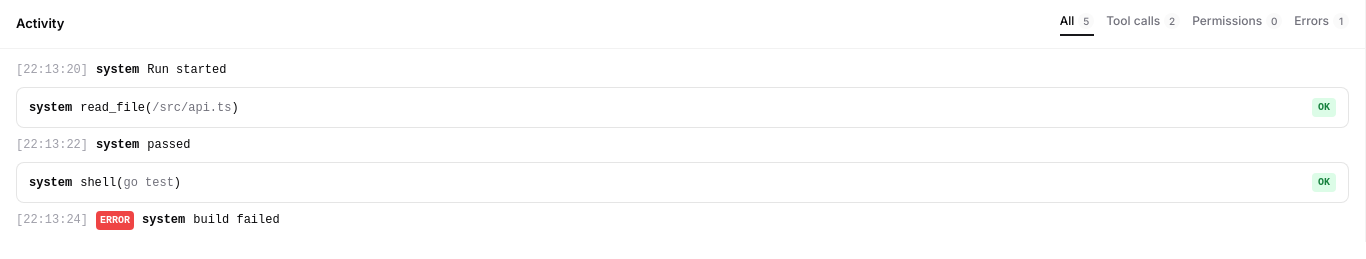
Test: ActivityColumn › Errors tab shows only the 1 error event
Click the tab with test id "activity-tab-error". click: [1322, 24]
box: [1294,12,1349,36]
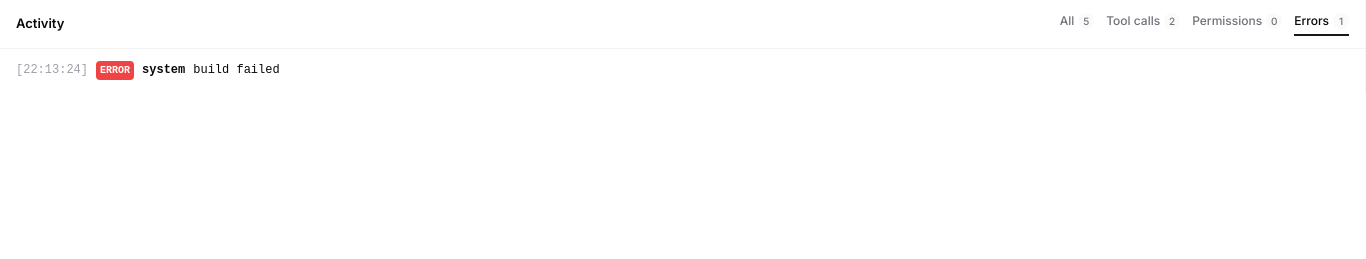
Result: the number of list items with test id "event-row" is 1 at [16,61,280,80]
